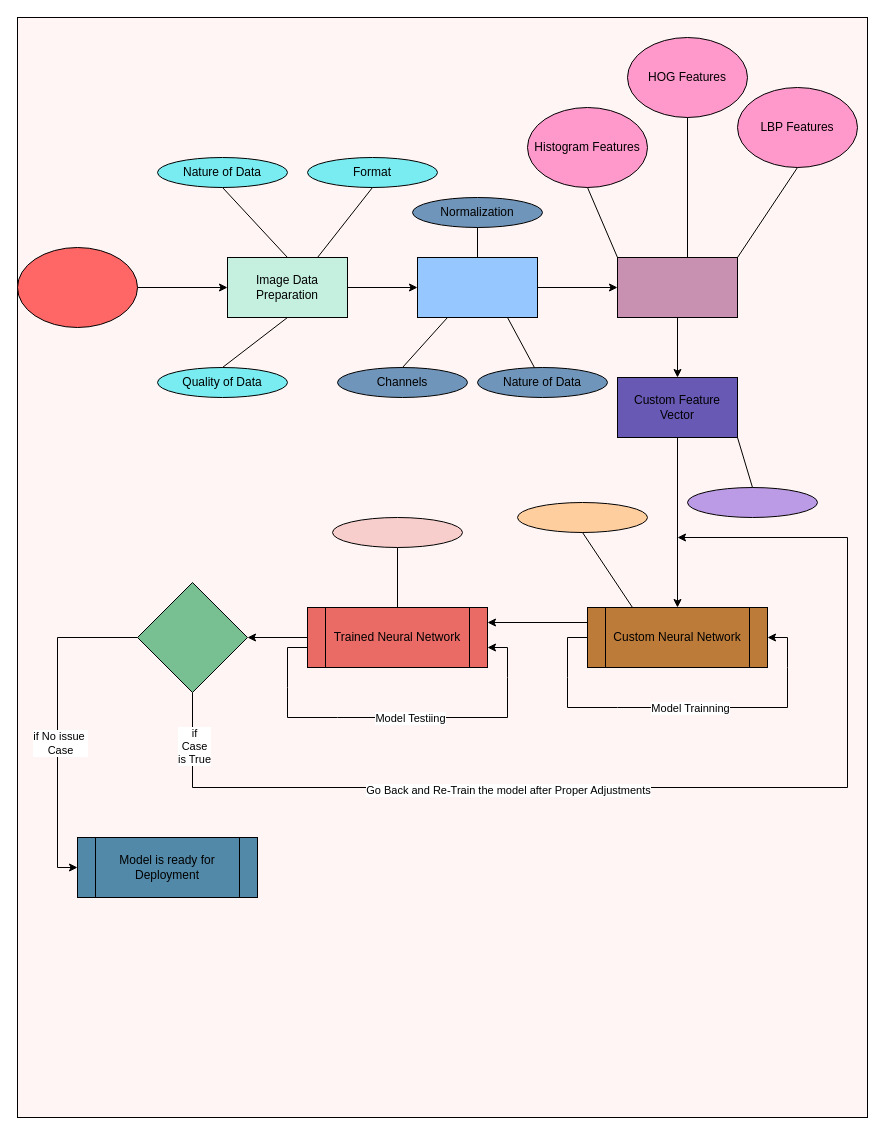
The diagram is 885 pixels wide and 1135 high, and some of its shapes have lost their labels. Here are the shapes that lost their labels. From the top down, the centre of each, then its label:
At point 77,287: "Raw images with labels".
At point 477,287: "Image Preprocessing".
At point 677,287: "Feature Extractor".
At point 582,517: "80% Data in Tranning".
At point 752,502: "Feature Crossing".
At point 397,532: "20% Data in Testing".
At point 192,637: "Check Overfitting Underfitting".
